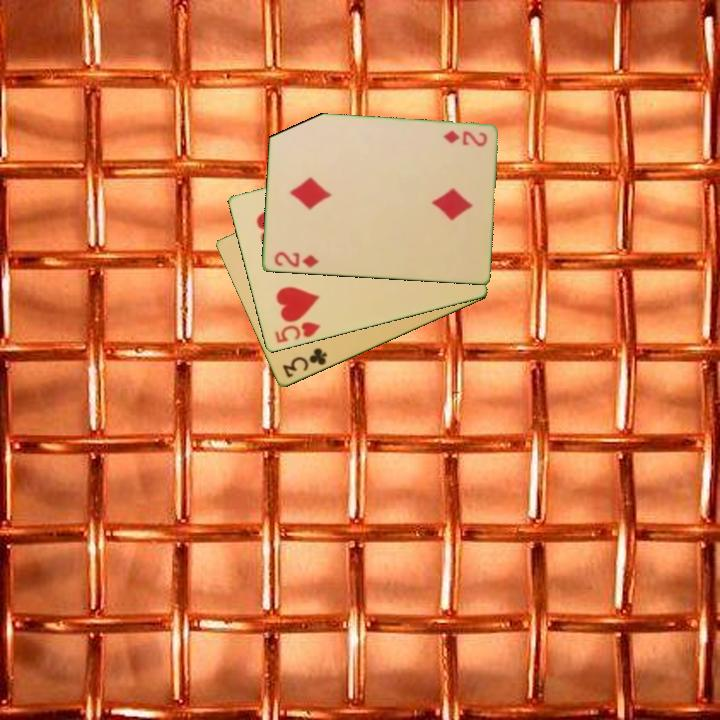2d: (270, 248, 321, 271), (439, 127, 490, 149)
3c: (279, 344, 330, 381)
5h: (271, 319, 323, 346)
